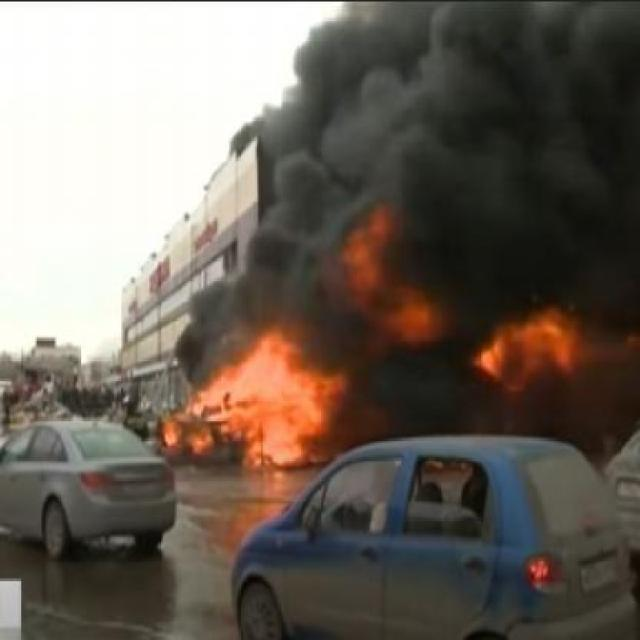Fire: (228, 330, 342, 470), (478, 314, 574, 386), (344, 207, 388, 296), (390, 296, 436, 352), (165, 417, 213, 452), (192, 378, 228, 414)
